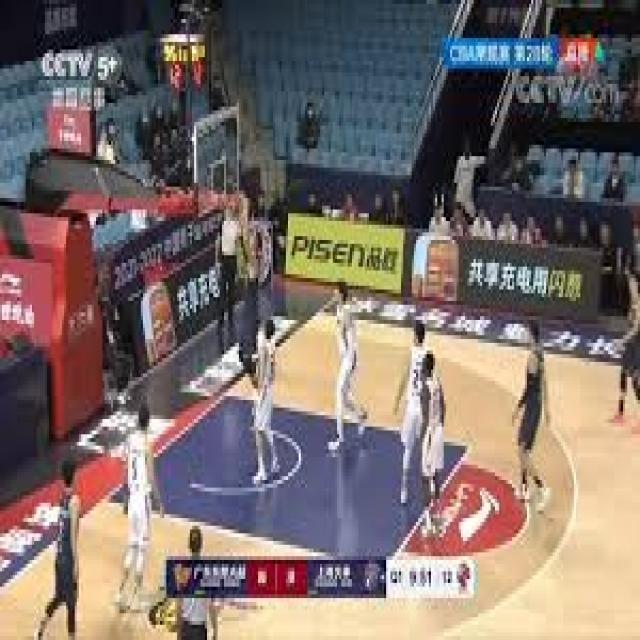rim: (237, 194, 250, 224)
